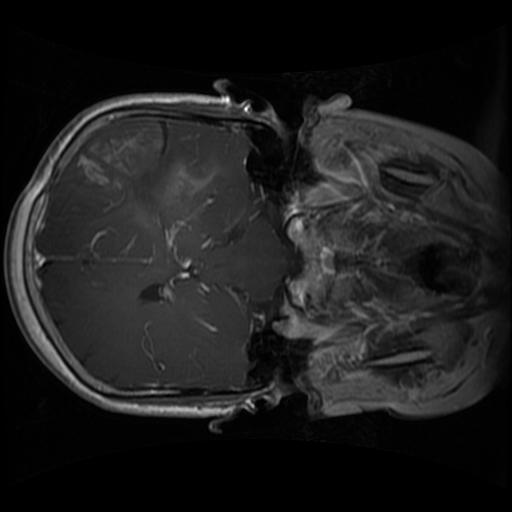glioma: (75, 123, 219, 237)
